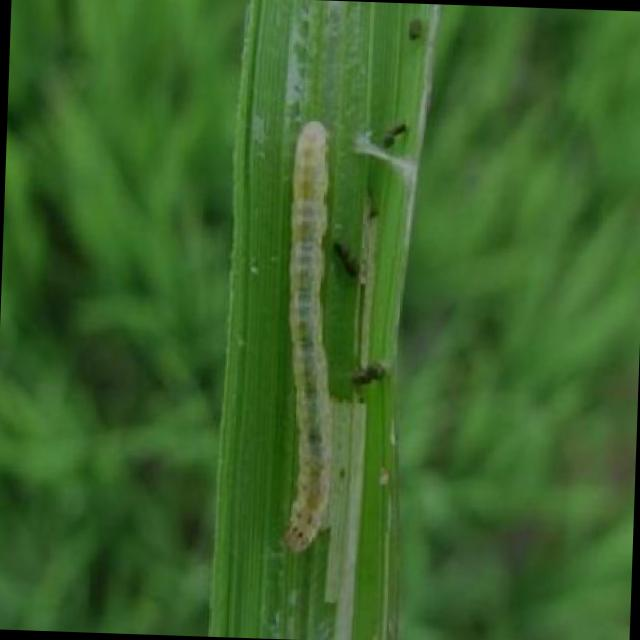leaf-folder: (245, 111, 384, 584)
